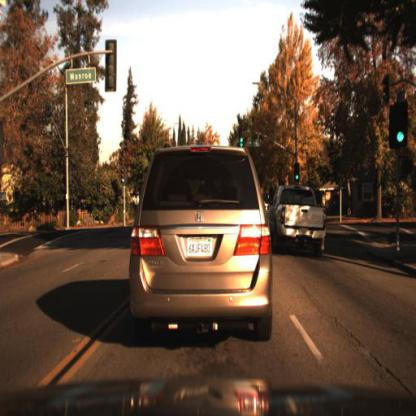car: (128, 140, 276, 351), (270, 183, 328, 256)
trafficLight: (238, 126, 246, 151)
trafficLight-Green: (391, 99, 409, 152), (295, 160, 304, 185)
trafficLight-GreenLeft: (120, 168, 127, 191)
